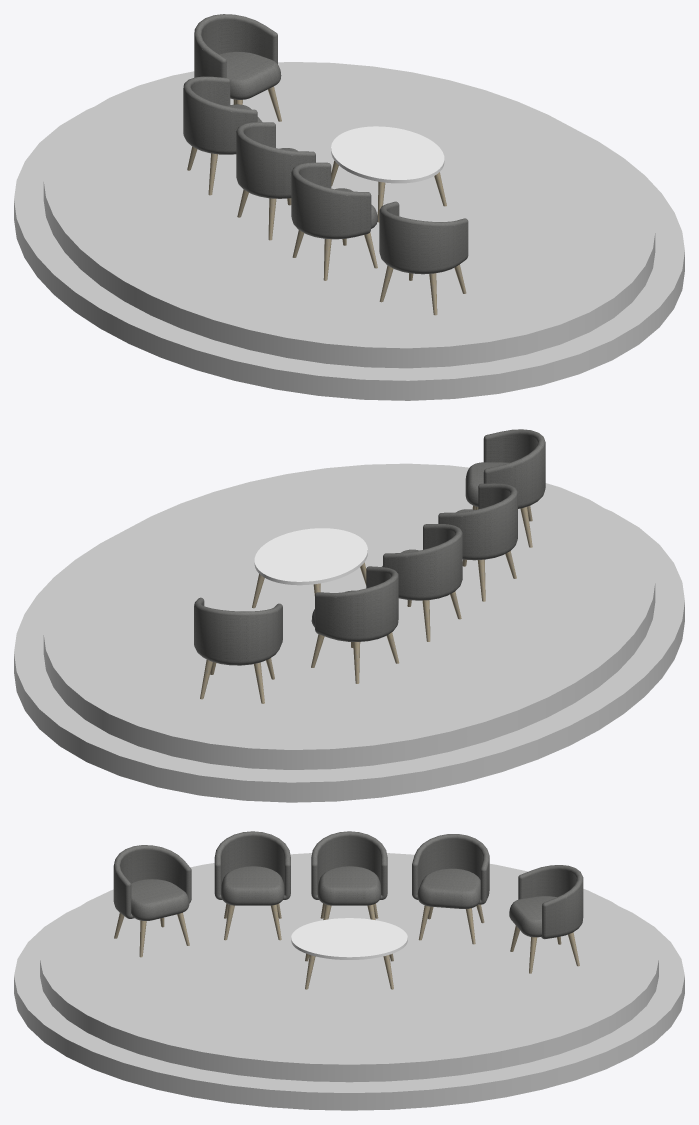
File: Oval_Panelist_Front.gltf
3 renders of one model, top to bottom at view 1: azimuth 30°, elevation 25°; view 2: azimuth 150°, elevation 25°; view 3: azimuth 270°, elevation 25°, orthographic. The views are drawn at different scales.
Visible parts, largest first — view 1: object 7, Stage Chair - Panelist (×5), Coffee Table; view 2: object 7, Stage Chair - Panelist (×5), Coffee Table; view 3: object 7, Stage Chair - Panelist (×5), Coffee Table.
Part boxes in pixels (left/top/right/bottom): object 7: left=14, top=62, right=684, bottom=400; Stage Chair - Panelist (×5): left=183, top=14, right=468, bottom=315; Coffee Table: left=331, top=126, right=446, bottom=222; object 7: left=14, top=463, right=684, bottom=802; Stage Chair - Panelist (×5): left=194, top=429, right=545, bottom=703; Coffee Table: left=252, top=528, right=367, bottom=608; object 7: left=14, top=853, right=684, bottom=1110; Stage Chair - Panelist (×5): left=113, top=831, right=583, bottom=973; Coffee Table: left=291, top=918, right=407, bottom=989.
Size of the model in its own units: 4.37 by 1.02 by 5.29.
Materials: 5 (3 with a texture image).
